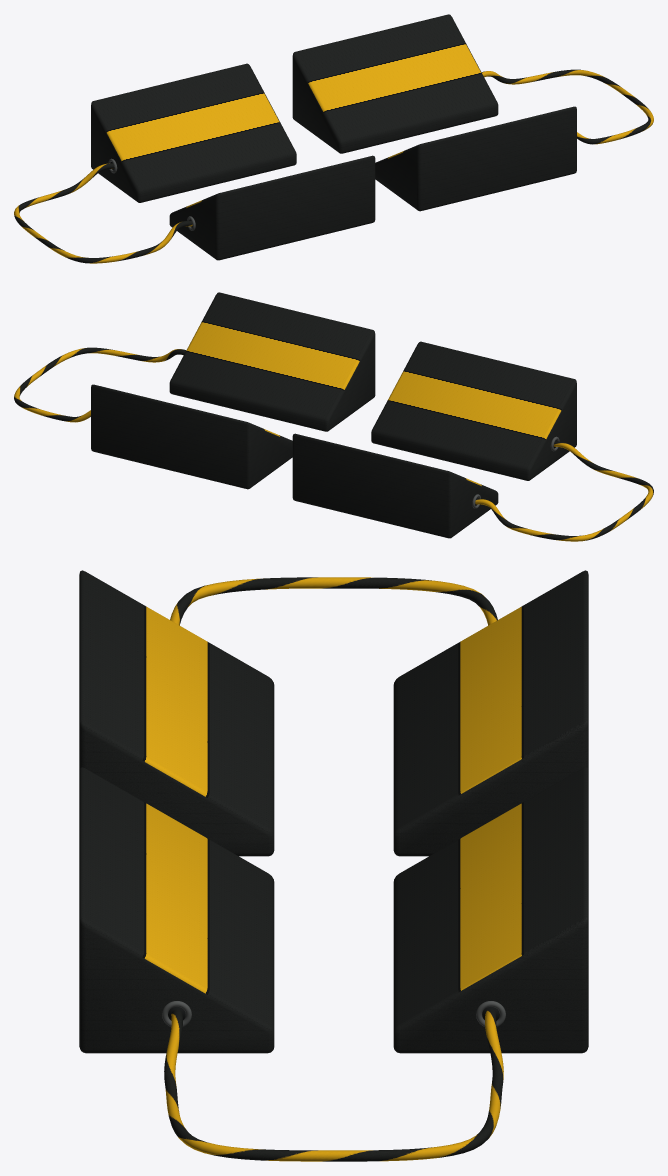
The model's file is HomebaseAircraftWheelChocks_LOD00.gltf.
3 renders of one model, top to bottom at view 1: azimuth 30°, elevation 25°; view 2: azimuth 150°, elevation 25°; view 3: azimuth 270°, elevation 25°, orthographic. The views are drawn at different scales.
Visible parts, largest first — view 1: AircraftWheelChocks; view 2: AircraftWheelChocks; view 3: AircraftWheelChocks.
Part boxes in pixels (x1=…): AircraftWheelChocks: x1=14, y1=14, x2=653, y2=263; AircraftWheelChocks: x1=14, y1=292, x2=653, y2=541; AircraftWheelChocks: x1=79, y1=570, x2=588, y2=1161.
Size of the model in its own units: 1.26 by 0.1379 by 0.47.
Materials: 5 (3 with a texture image).
